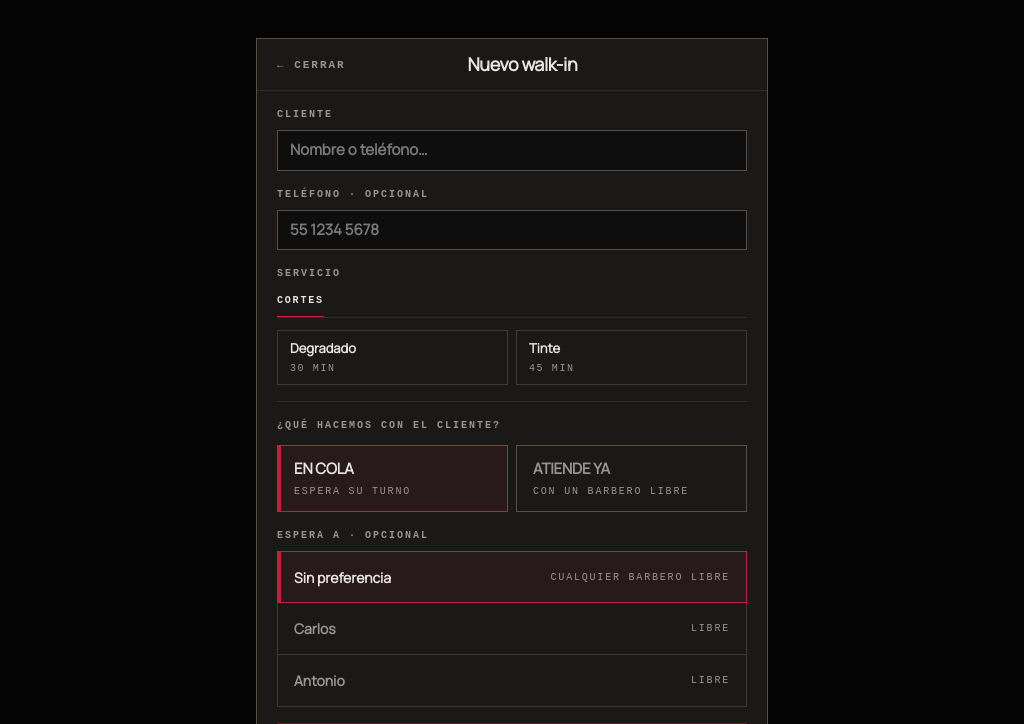
Scenario: AddWalkInSheet › al elegir barbero preferido oculta los servicios que ese barbero no ofrece
Expected: the button "Degradado 30 min" is shown, [277,330,508,385]
Expected: the button "Tinte 45 min" is shown, [516,330,747,385]
// Elegir a Carlos como preferido (modo cola: "Espera a") oculta Tinte.
Step 1. Click the button "Carlos libre" → (315, 629), box [277,603,747,655]
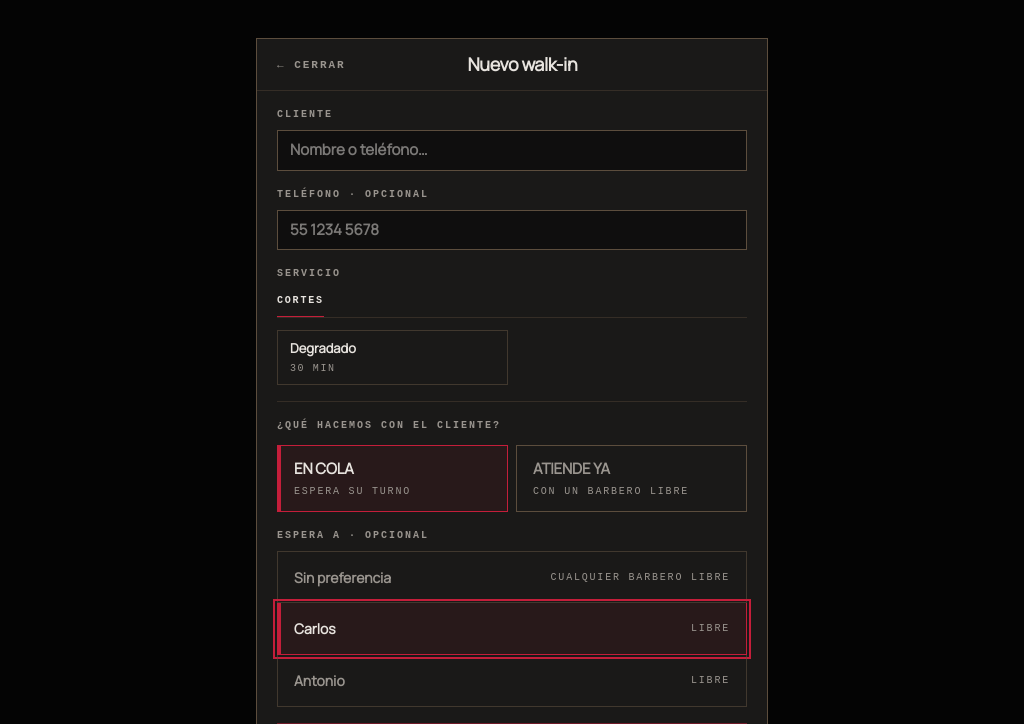
Expected: the button "Degradado 30 min" is shown, [277,330,508,385]
Now the button "Tinte" is gone
